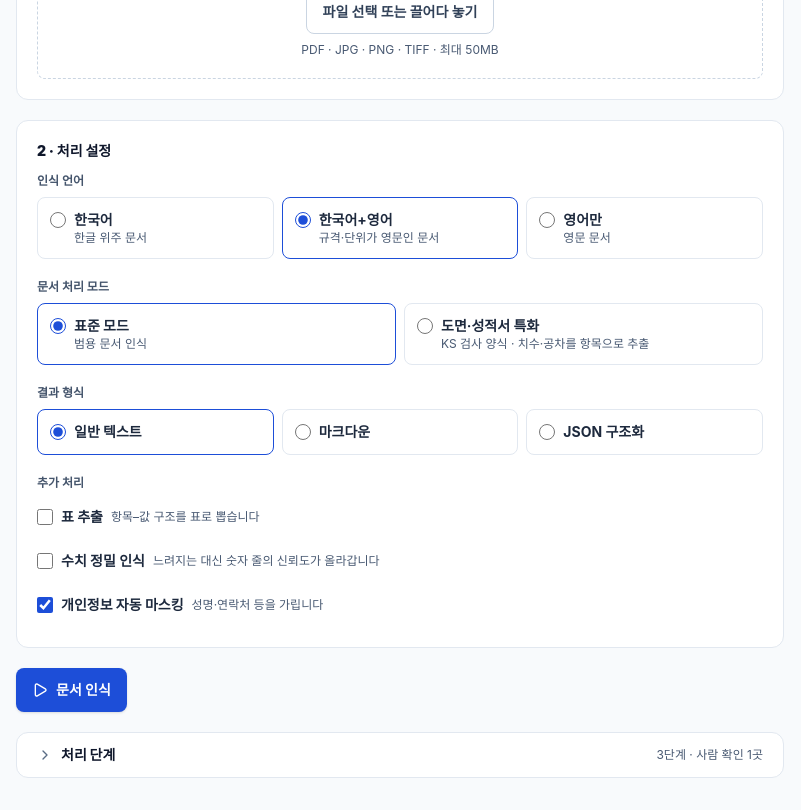
OcrPage › 마스킹을 끄면 원문이 남고 주의를 알린다
(page scrolled)
Click the checkbox labelled "개인정보 자동 마스킹 성명·연락처 등을 가립니다" at [45, 605], box [37,597,53,613]
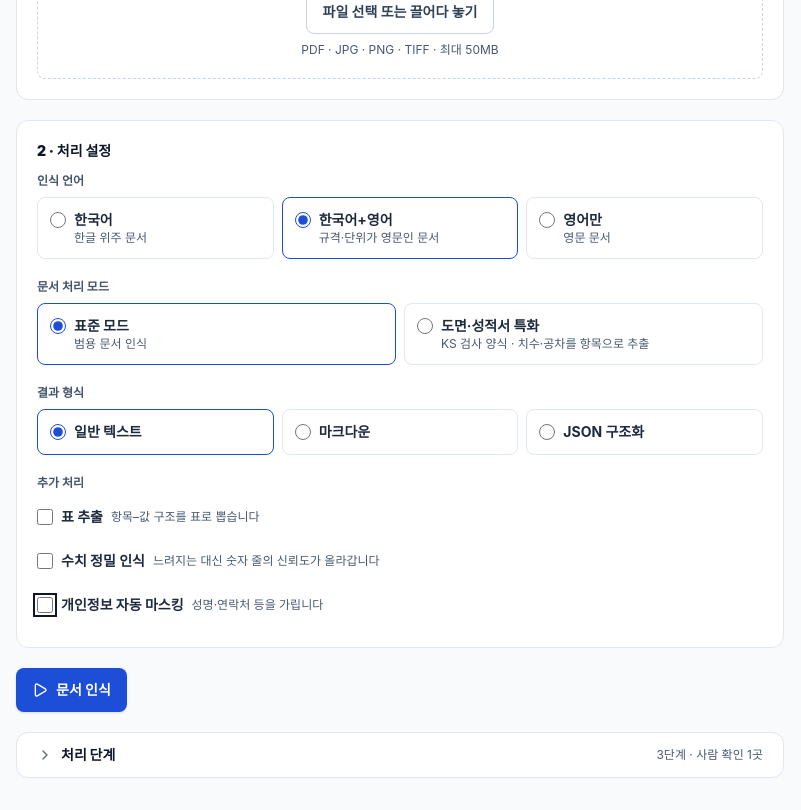
Click the button "문서 인식" at [71, 690], box [16,668,127,712]
(page scrolled)
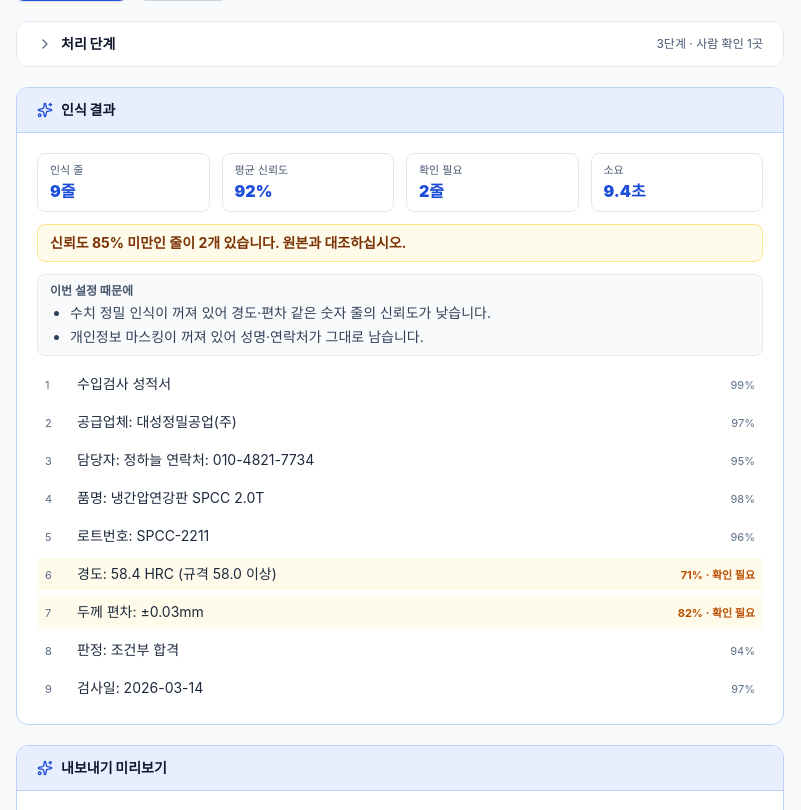
Expected: the element "인식 결과" shows "010-4821-7734", [77,450,314,468]
